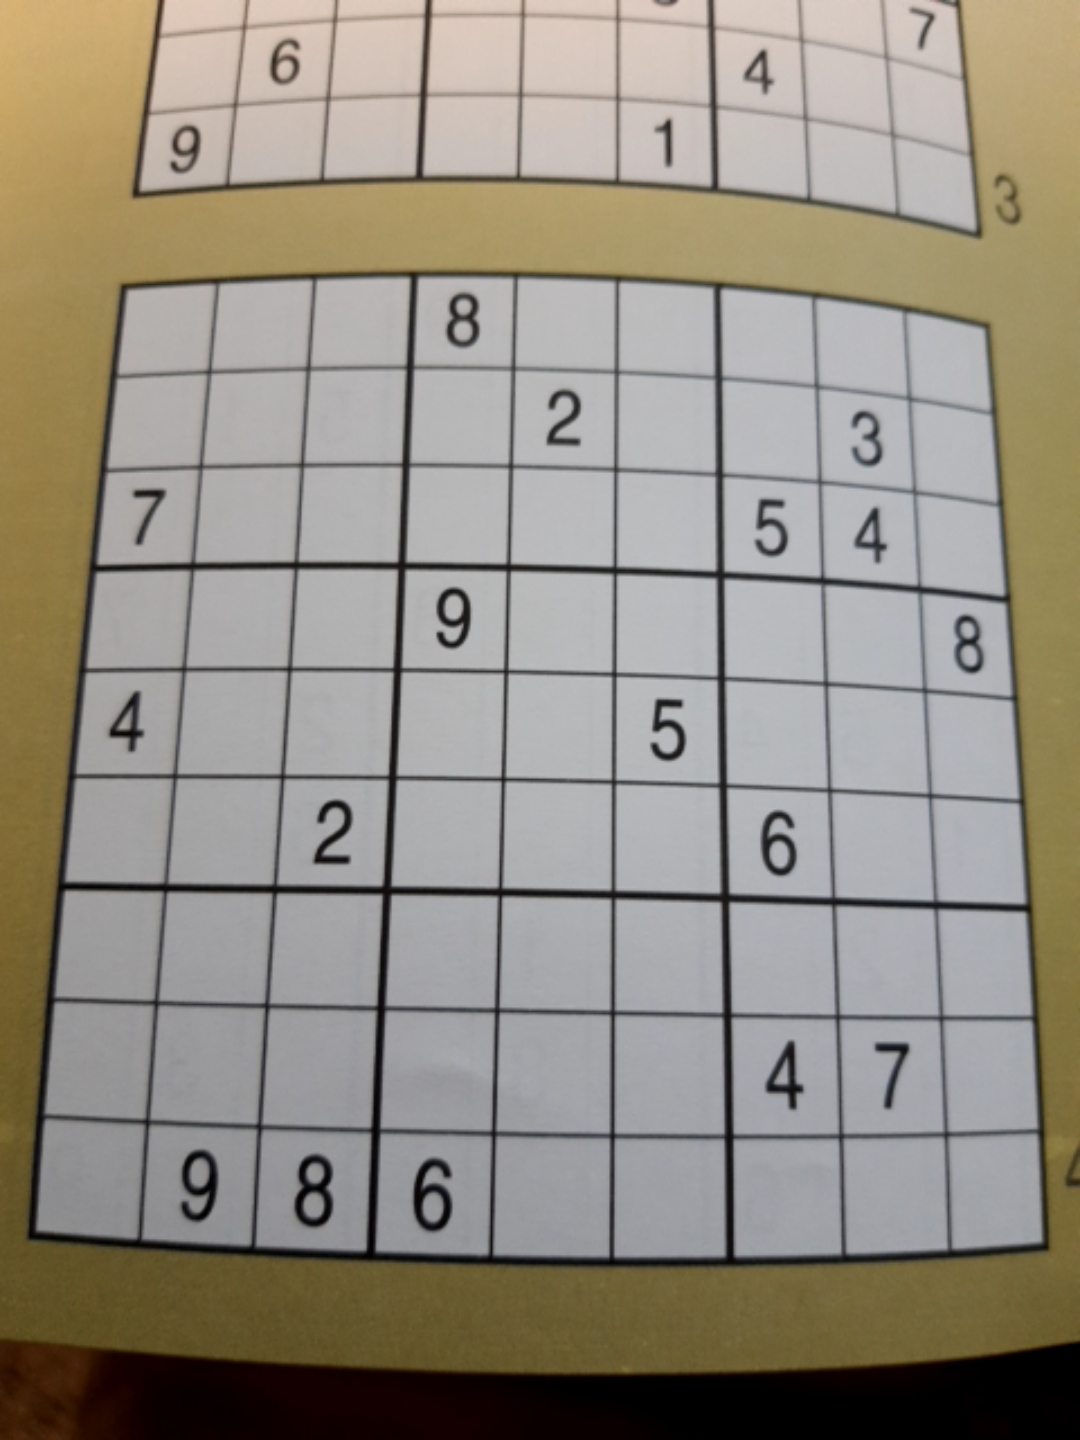sudoku: (23, 262, 1055, 1273)
